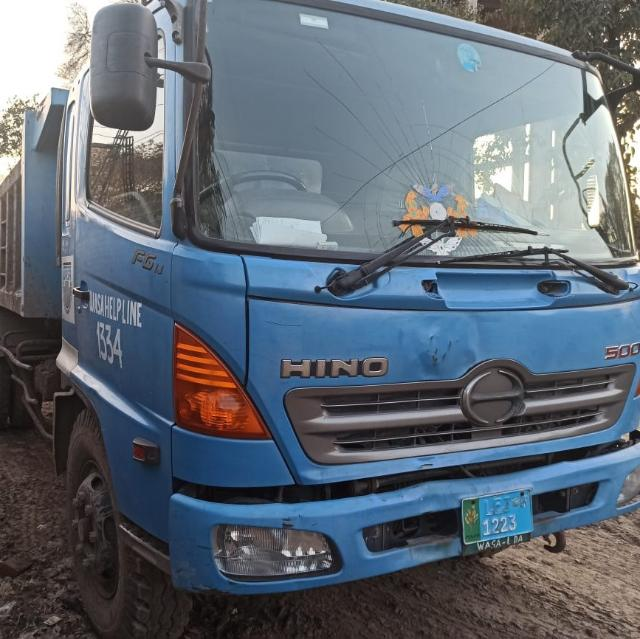plate: (462, 489, 533, 544)
